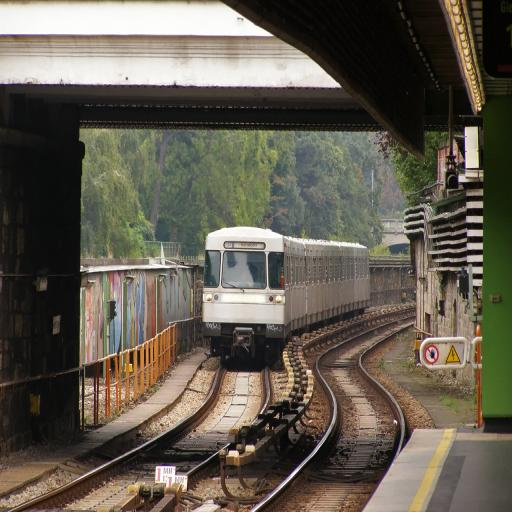Silberpfeil: (204, 224, 370, 357)
